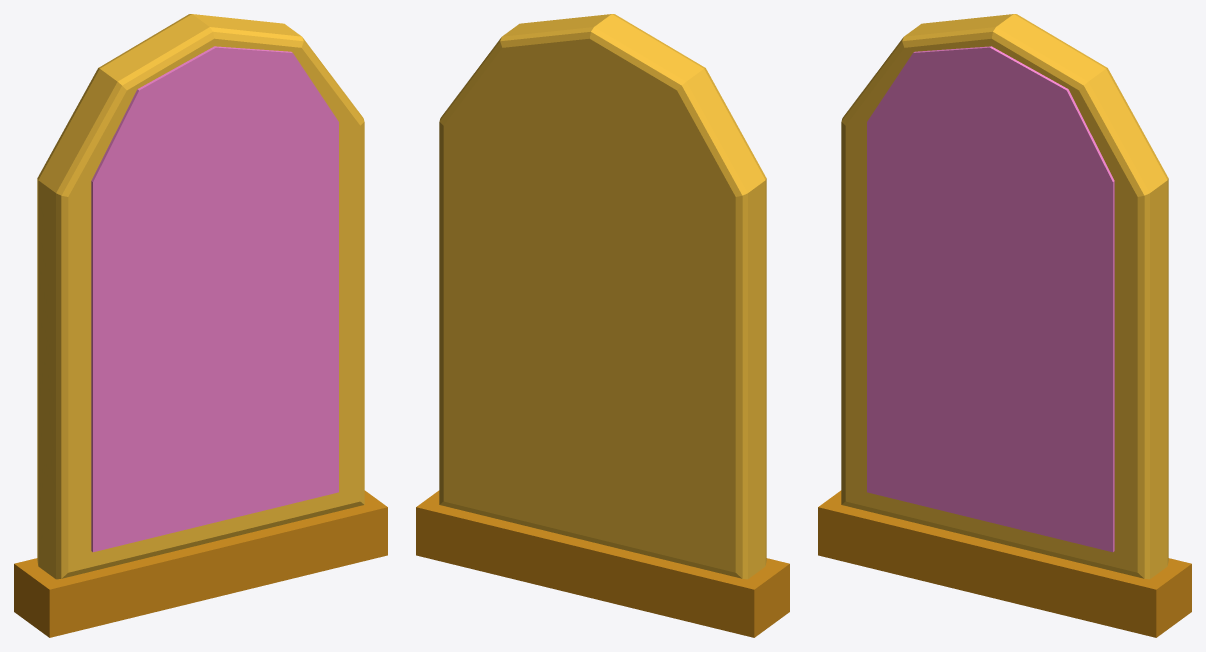
File: MagicMirror.fbx
The picture shows the model from 3 angles, left to right: view 1: azimuth 30°, elevation 25°; view 2: azimuth 150°, elevation 25°; view 3: azimuth 330°, elevation 25°; orthographic projection.
Visible parts, largest first — view 1: MagicMirror; view 2: MagicMirror; view 3: MagicMirror.
Part boxes in pixels (box(x1,y1,x2,y2)): MagicMirror: box(14, 14, 387, 637); MagicMirror: box(416, 14, 789, 637); MagicMirror: box(818, 14, 1191, 637).
Bounding box in the file's own units: 2.2 × 3.5 × 0.4.
Materials: 1 (1 with a texture image).
